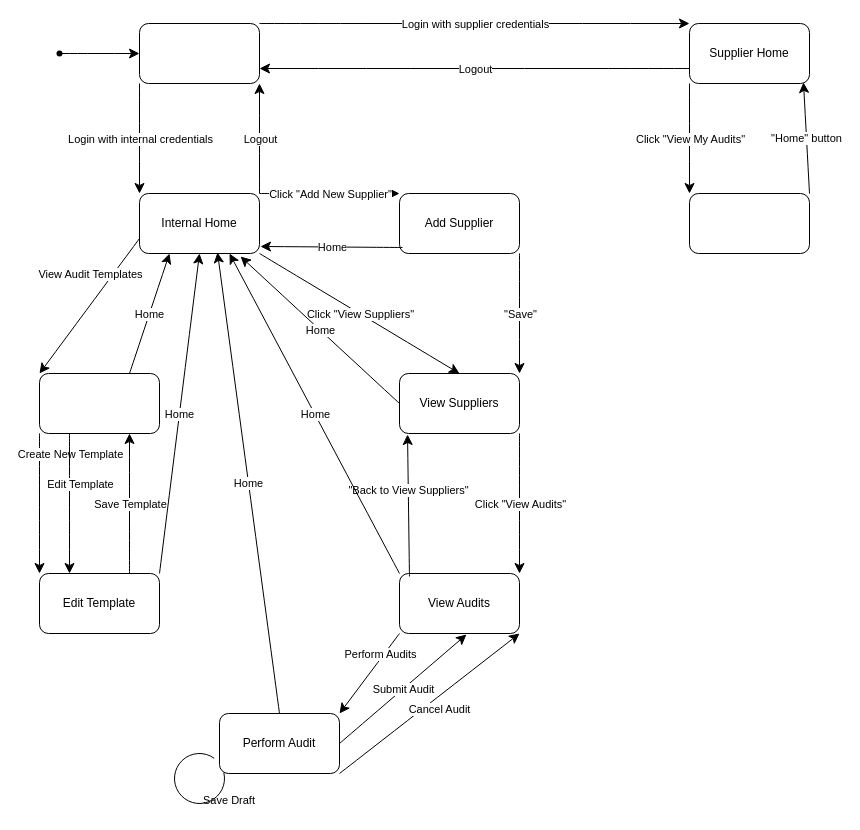
Some shapes in this 860 by 830 pixel diagram are drawn without their labels. Each missing label, with the centre of its shape:
"Audit Templates" goes at [99,403].
"Login Screen" goes at [199,53].
"View My Audit Results" goes at [749,223].
